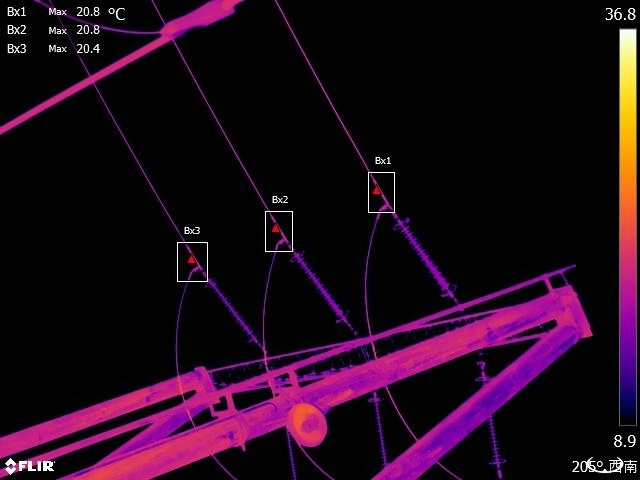clamp: (190, 254, 206, 277), (273, 229, 290, 248), (376, 193, 392, 212)
insulator: (392, 215, 462, 299), (285, 245, 350, 327), (199, 271, 263, 345), (474, 369, 509, 470), (366, 393, 391, 469), (286, 428, 294, 480)
